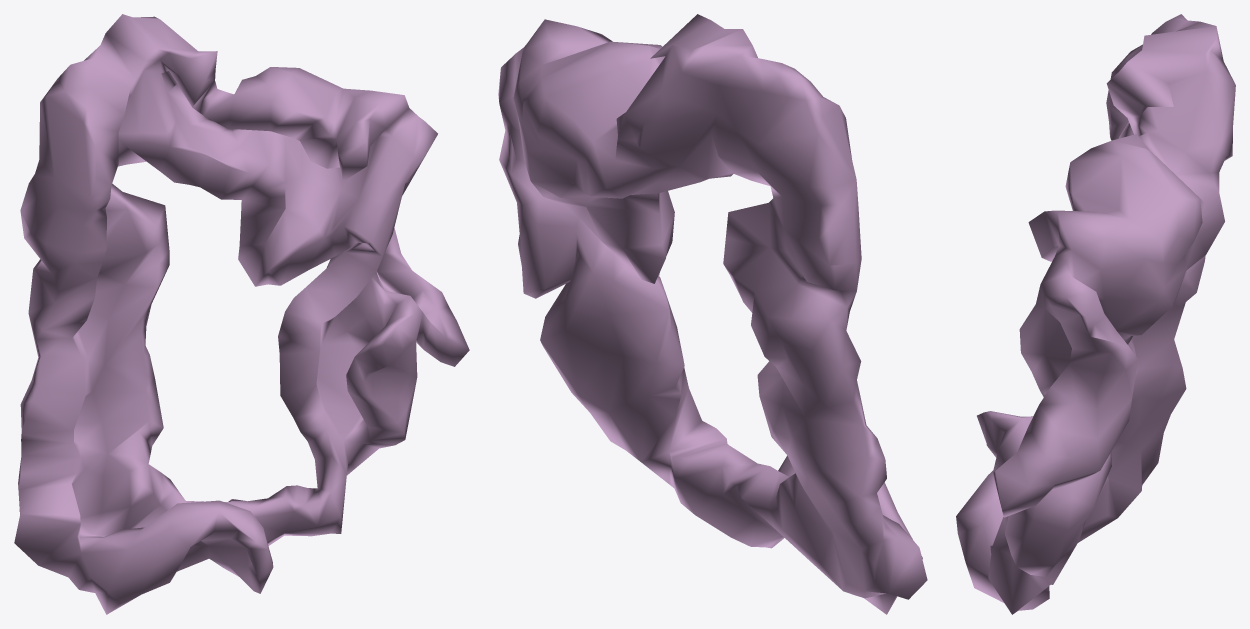
3 views of the same model, side by side, from view 1: azimuth 30°, elevation 25°; view 2: azimuth 150°, elevation 25°; view 3: azimuth 270°, elevation 25° (orthographic). The views are drawn at different scales.
Parts seen in each view (by area): view 1: 左侧眶回; view 2: 左侧眶回; view 3: 左侧眶回.
Part boxes in pixels (<box>): 左侧眶回: <box>14,14,469,614</box>; 左侧眶回: <box>498,14,927,614</box>; 左侧眶回: <box>956,14,1235,614</box>.
Size of the model in its own units: 0.0718 by 0.0905 by 0.0401.
